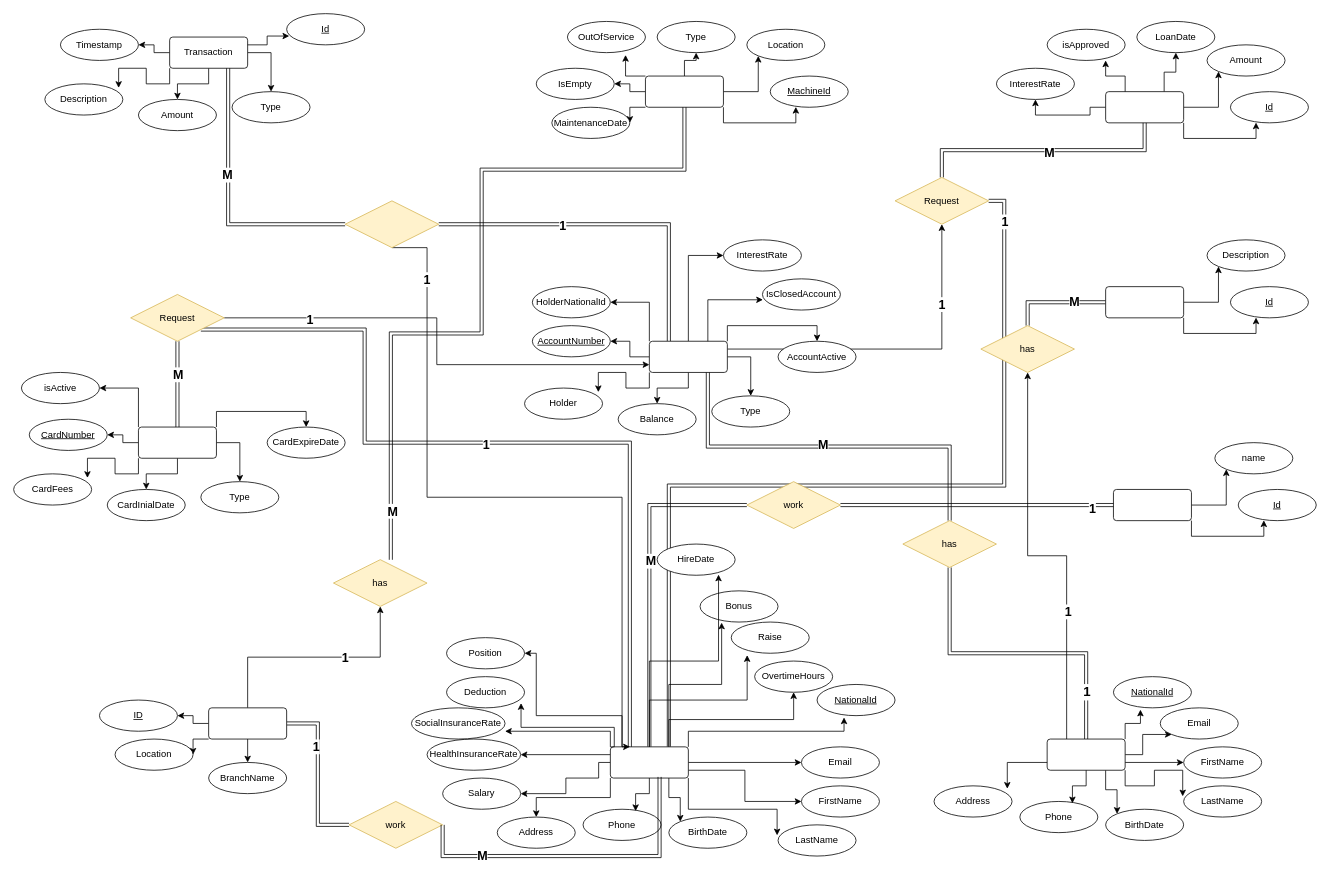
The diagram is 1330 pixels wide and 877 high, and some of its shapes have lost their labels. The shapes that lost their labels are listed below. From the top down, each one's centre as x and y in pixels, then its label:
point (684, 91): ATM
point (1144, 107): Loan
point (391, 224): Make
point (1144, 302): Complaint
point (688, 356): Account
point (177, 442): PaymentCard
point (1152, 505): Department
point (247, 723): BRANCH
point (649, 762): EMPLOYEE
point (1085, 754): Customer
